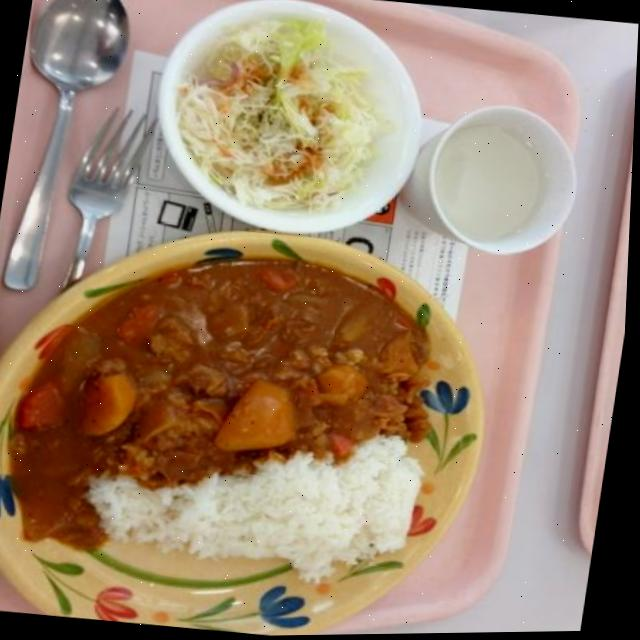牛肉菜式: (0, 226, 519, 640)
蔬菜料理: (151, 0, 447, 244)
